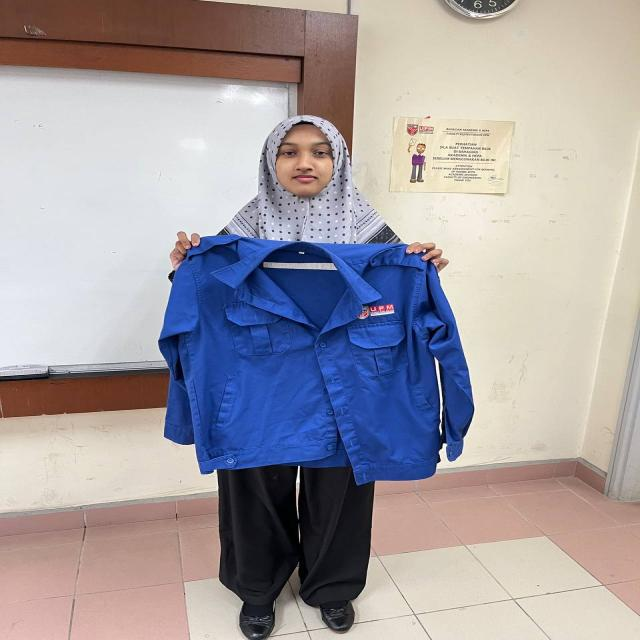person_without_labcoat: (159, 116, 473, 640)
